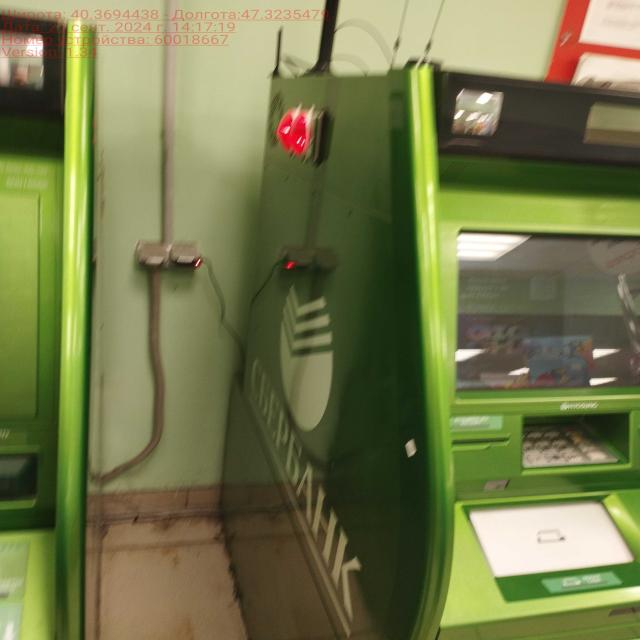bank: (216, 61, 640, 640), (0, 0, 103, 640)
